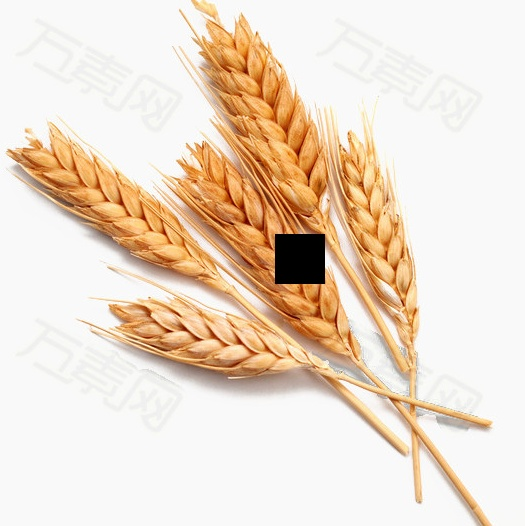wheat: (1, 115, 248, 317), (175, 137, 374, 371), (193, 6, 340, 240), (98, 291, 364, 379), (336, 143, 427, 379)
